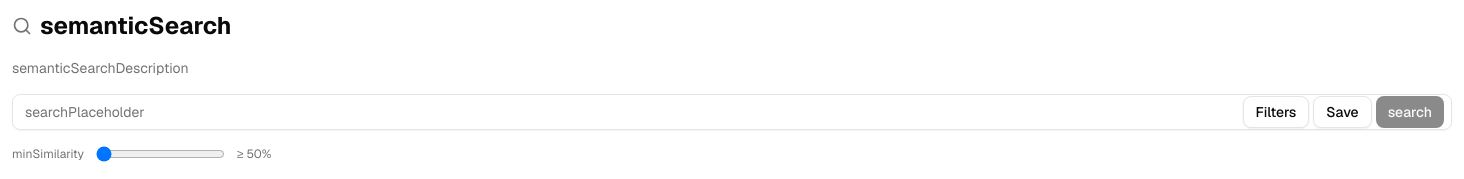
it: SearchBar › Loading State › displays loading state during search
In the field with placeholder "searchPlaceholder": (732, 112) [12, 94, 1452, 130], type "test"
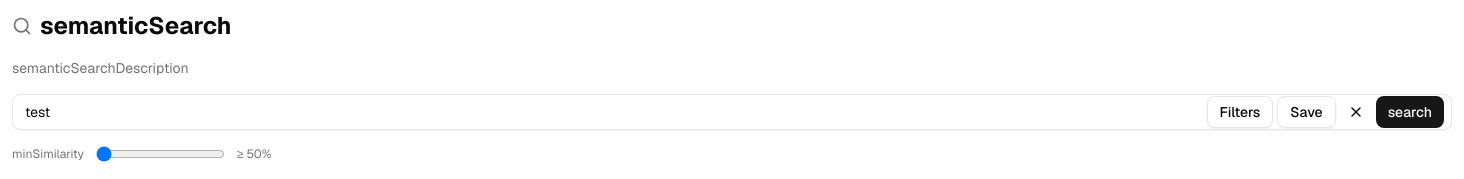
Submit the form with placeholder "searchPlaceholder", box [12, 94, 1452, 130]
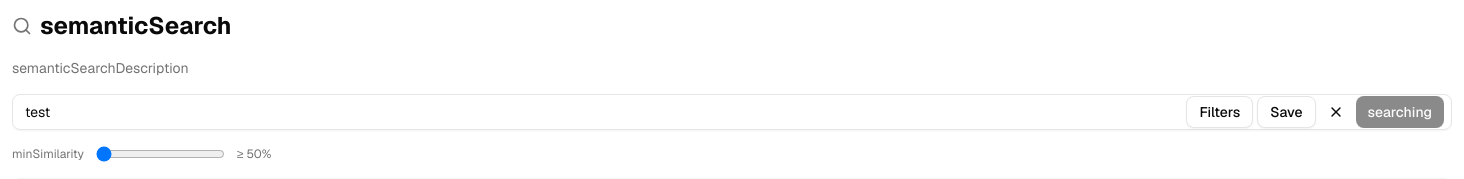
Now the button "searching" is shown, box [1356, 96, 1444, 128]
